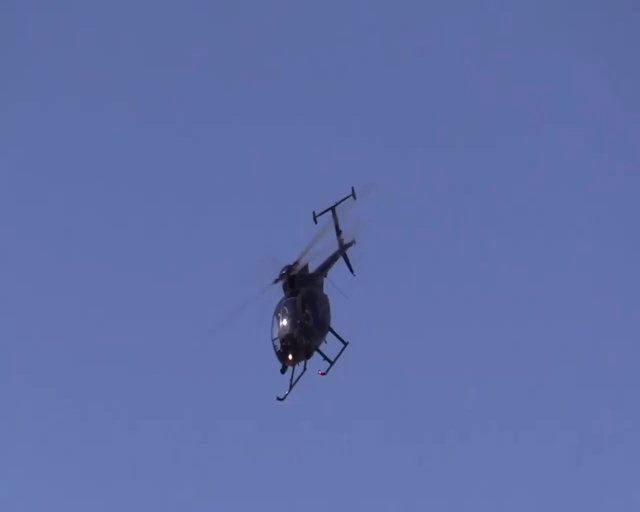HELICOPTER: (231, 183, 363, 404)
